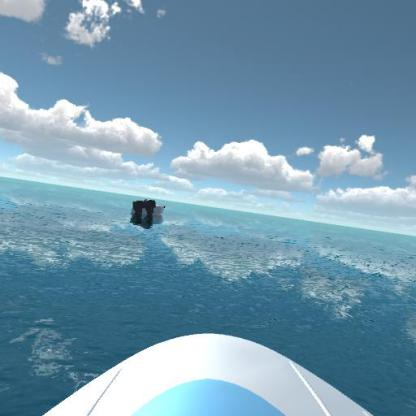usv3: (129, 194, 168, 227)
